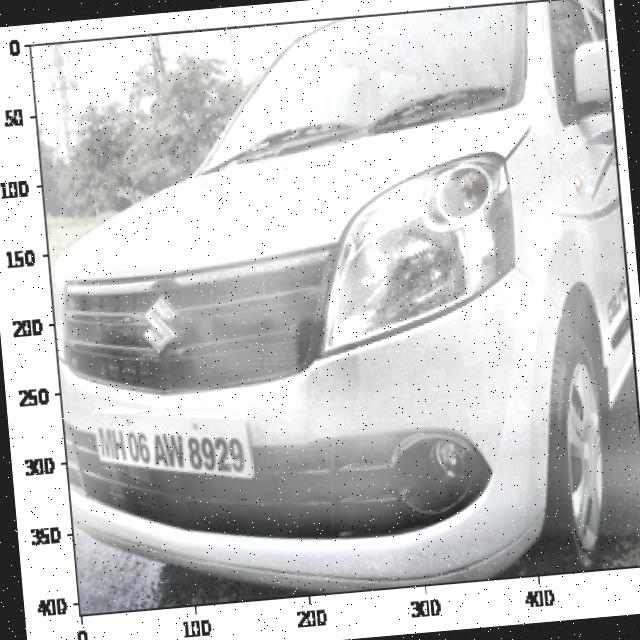license_plate: (93, 409, 251, 492)
